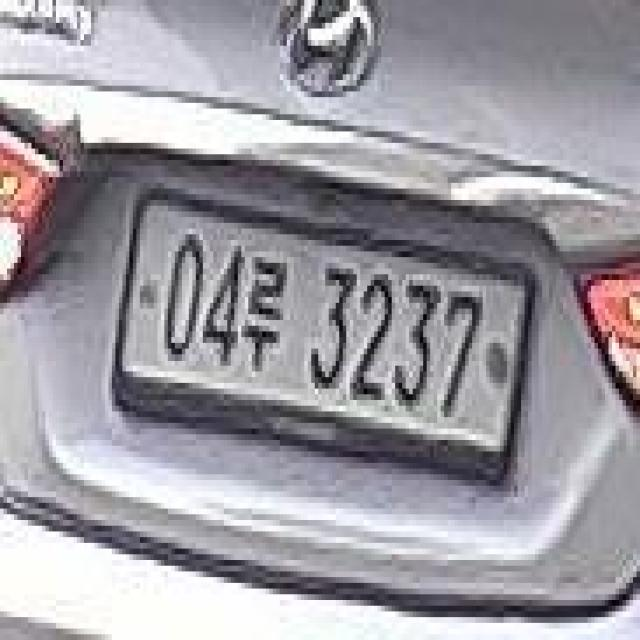illegal_plate: (120, 187, 524, 492)
